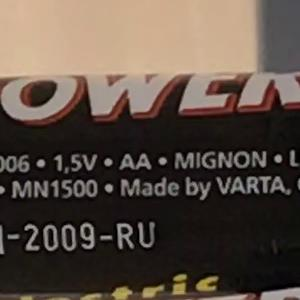keyword: (45, 145, 107, 180)
